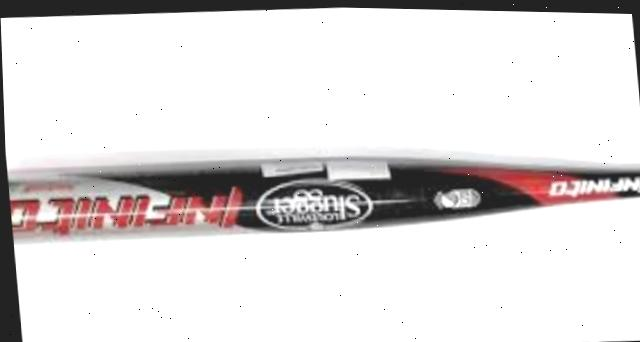baseball bat: (4, 136, 640, 256)
